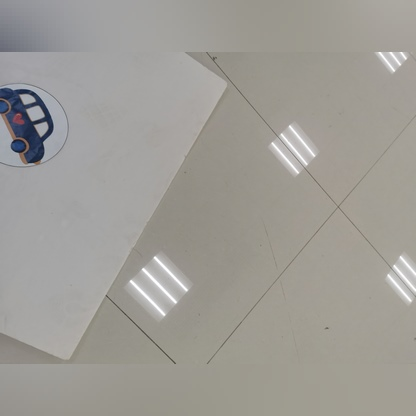car: (0, 71, 65, 171)
